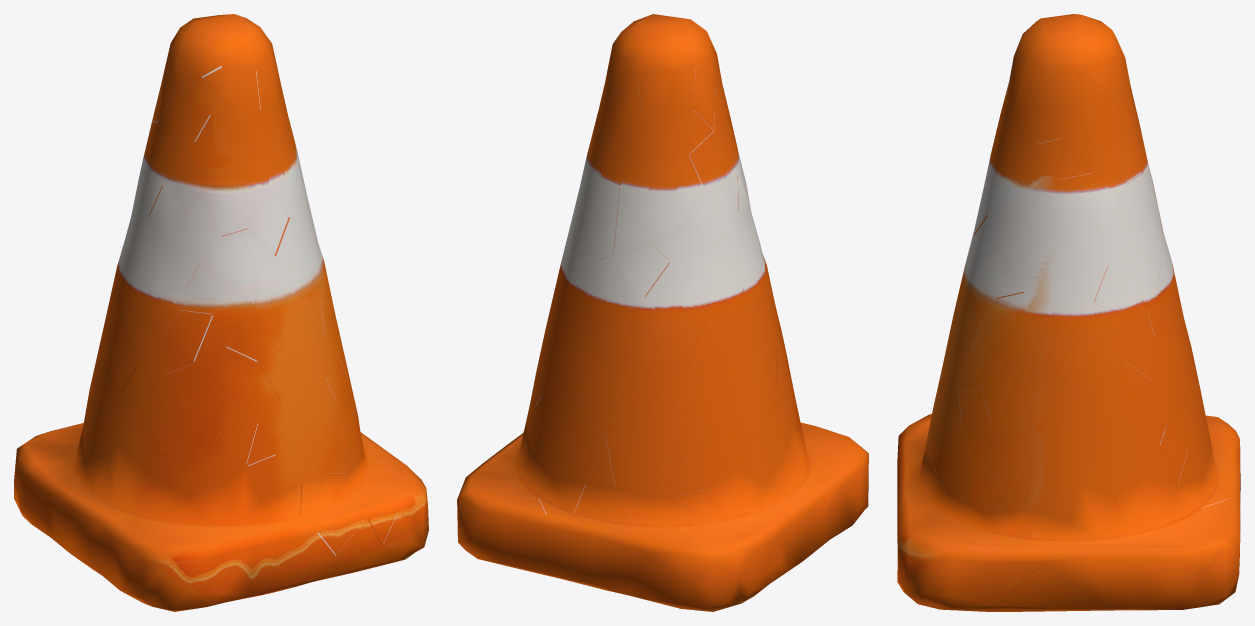
The picture shows the model from 3 angles, left to right: view 1: azimuth 30°, elevation 25°; view 2: azimuth 150°, elevation 25°; view 3: azimuth 270°, elevation 25°; orthographic projection. The views are drawn at different scales.
Visible parts, largest first — view 1: geometry_0; view 2: geometry_0; view 3: geometry_0.
Boxes of the visible parts, x1,y1,x2,y2 form: geometry_0: [14, 14, 428, 611]; geometry_0: [457, 14, 868, 611]; geometry_0: [897, 14, 1240, 611].
Bounding box in the file's own units: 1.2 × 2 × 1.2.
Materials: 1 (1 with a texture image).
